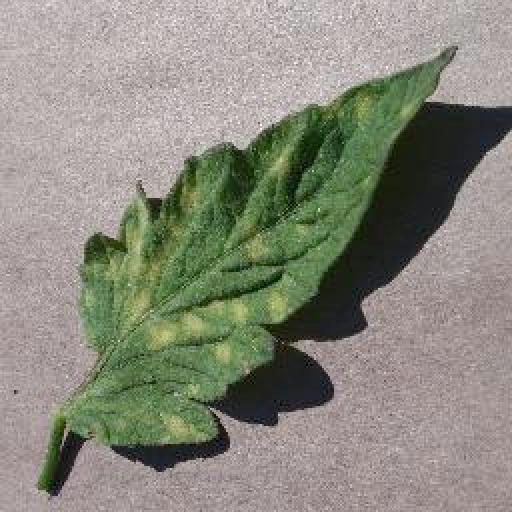disease_tomato: (74, 44, 455, 450)
